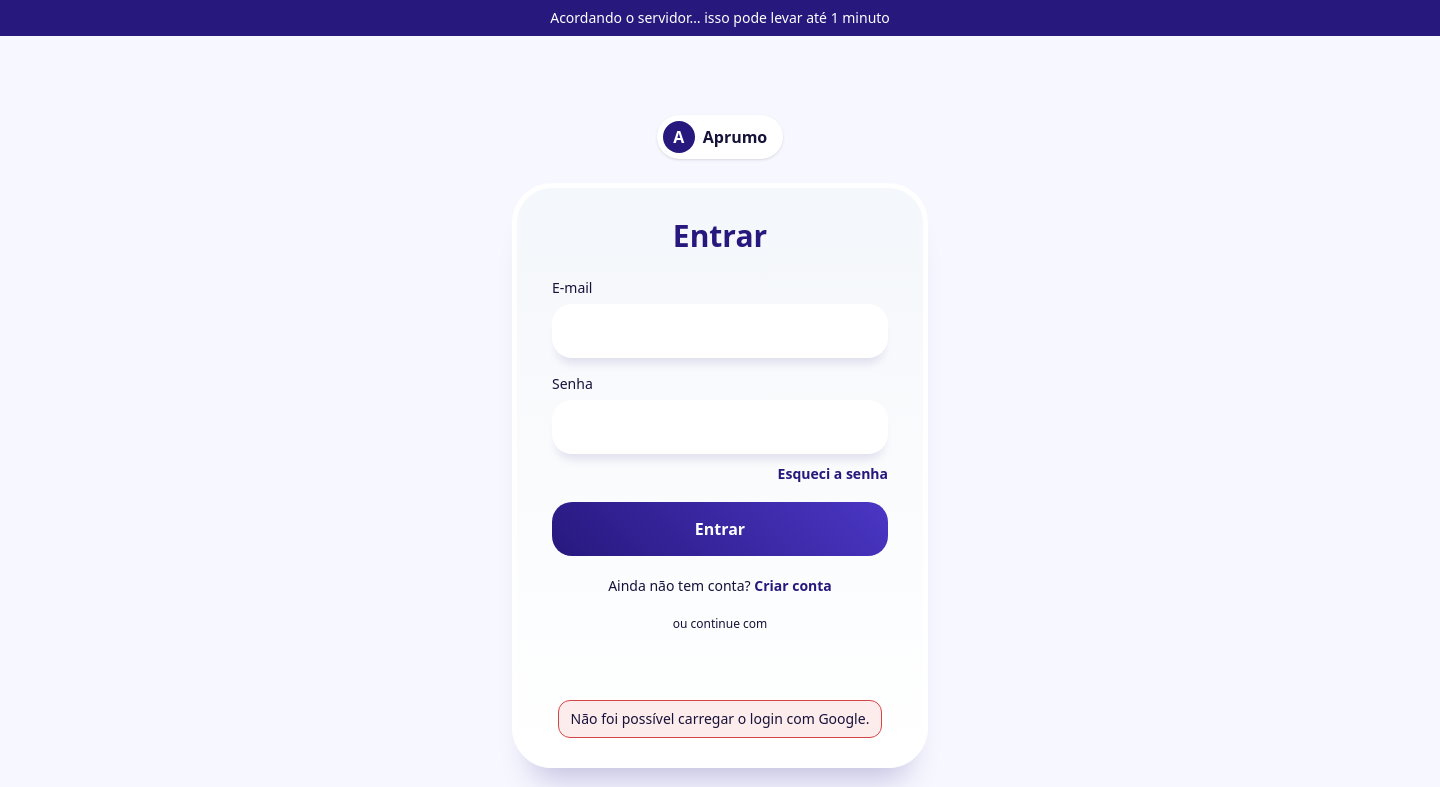
LoginPage › ignora_voltar_para_outro_site
The image size is (1440, 787).
Type "ana@exemplo.com" into the field labelled "E-mail" at [720, 330], box [552,304,888,358]
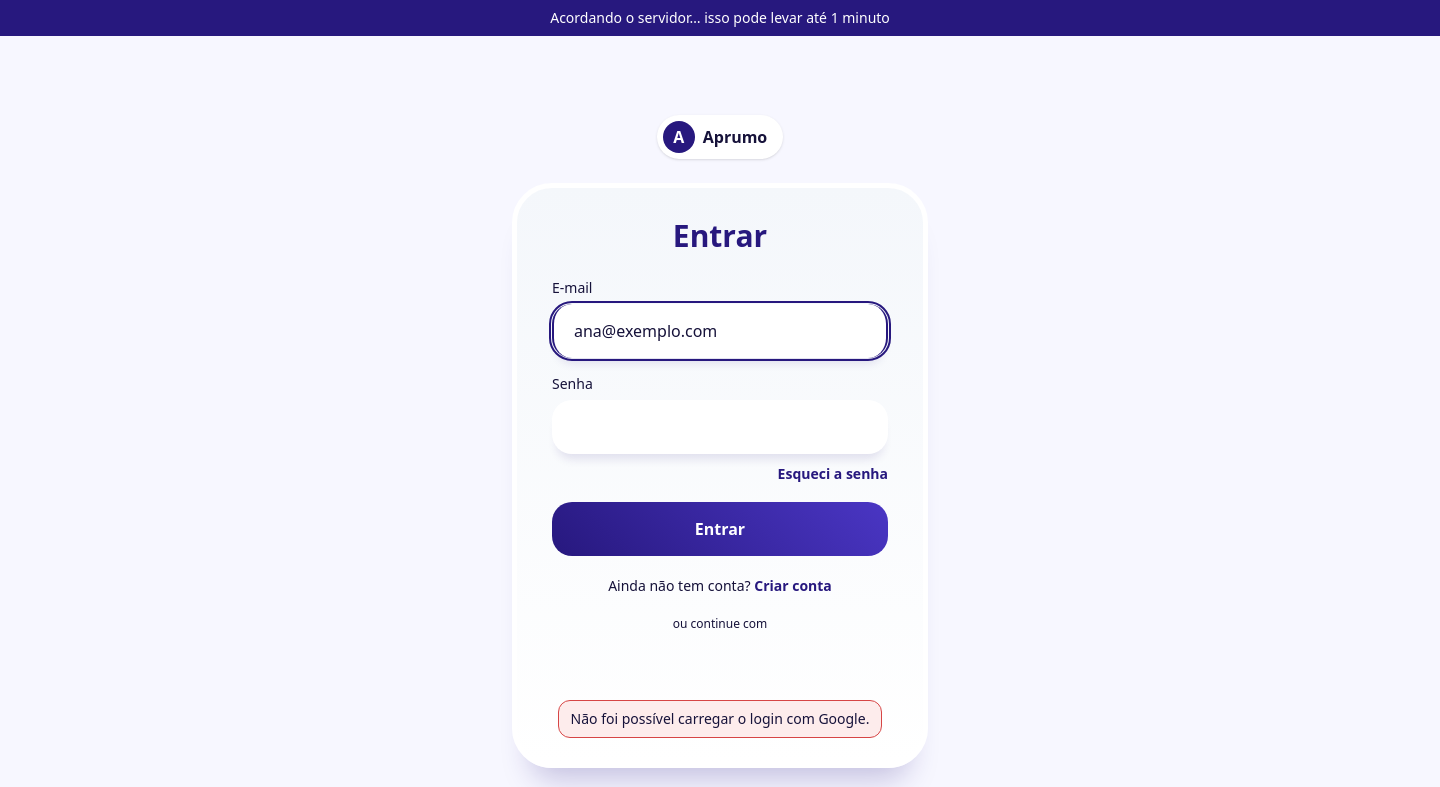
Type "senha-correta" into the password field labelled "Senha" at [720, 426], box [552,400,888,454]
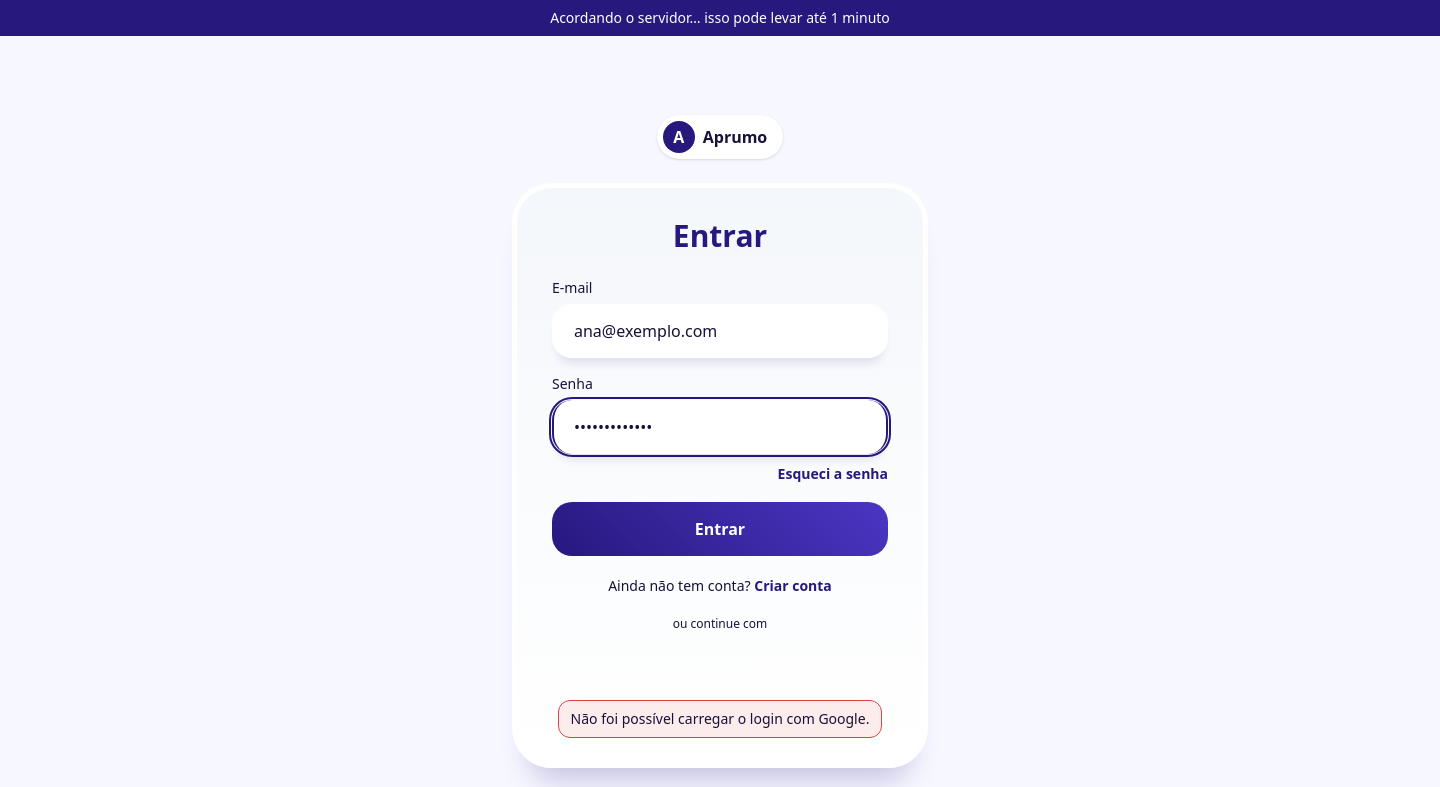
Click the button "Entrar" at [720, 528], box [552,502,888,556]
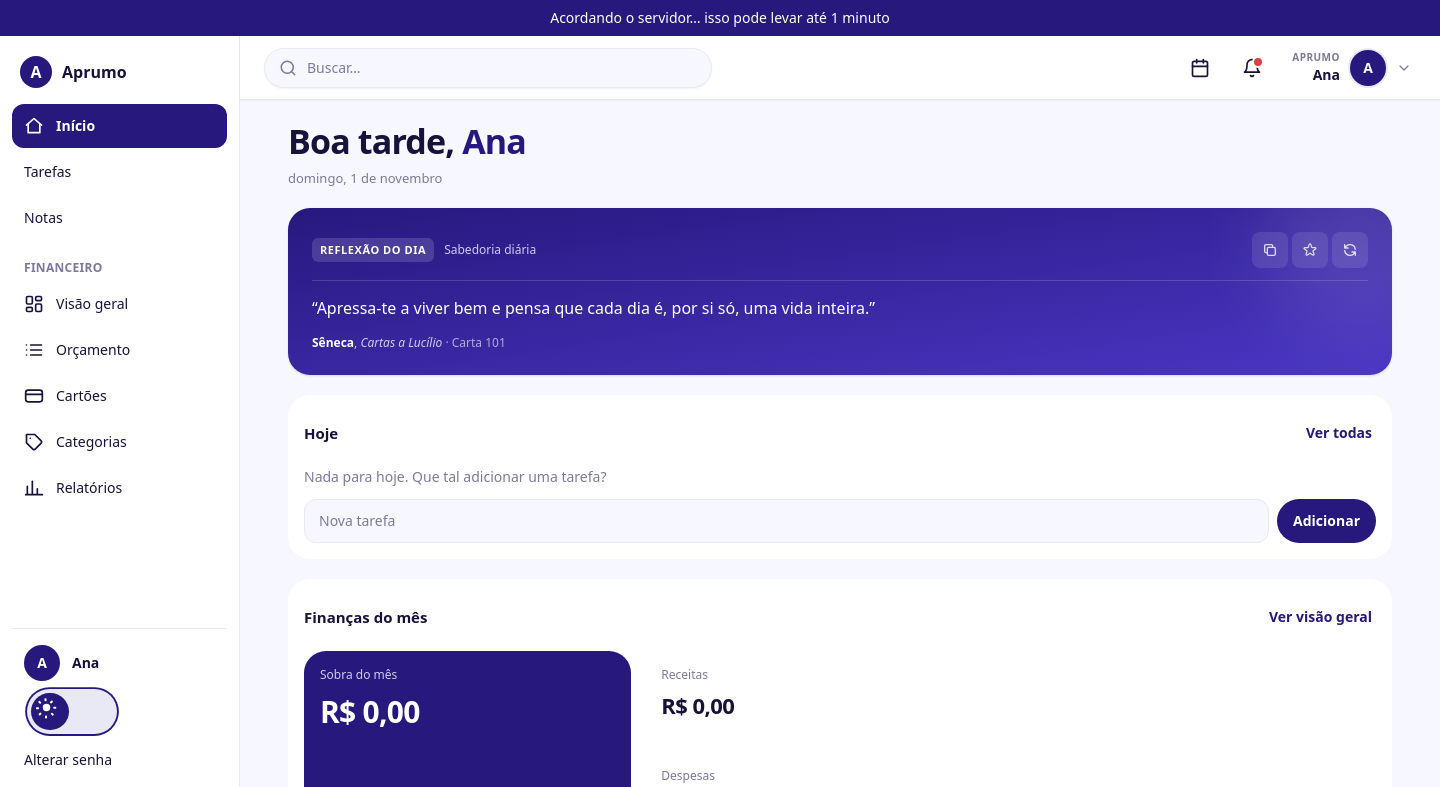
Check: the heading "Boa tarde, Ana" is shown, box [288,118,526,164]
